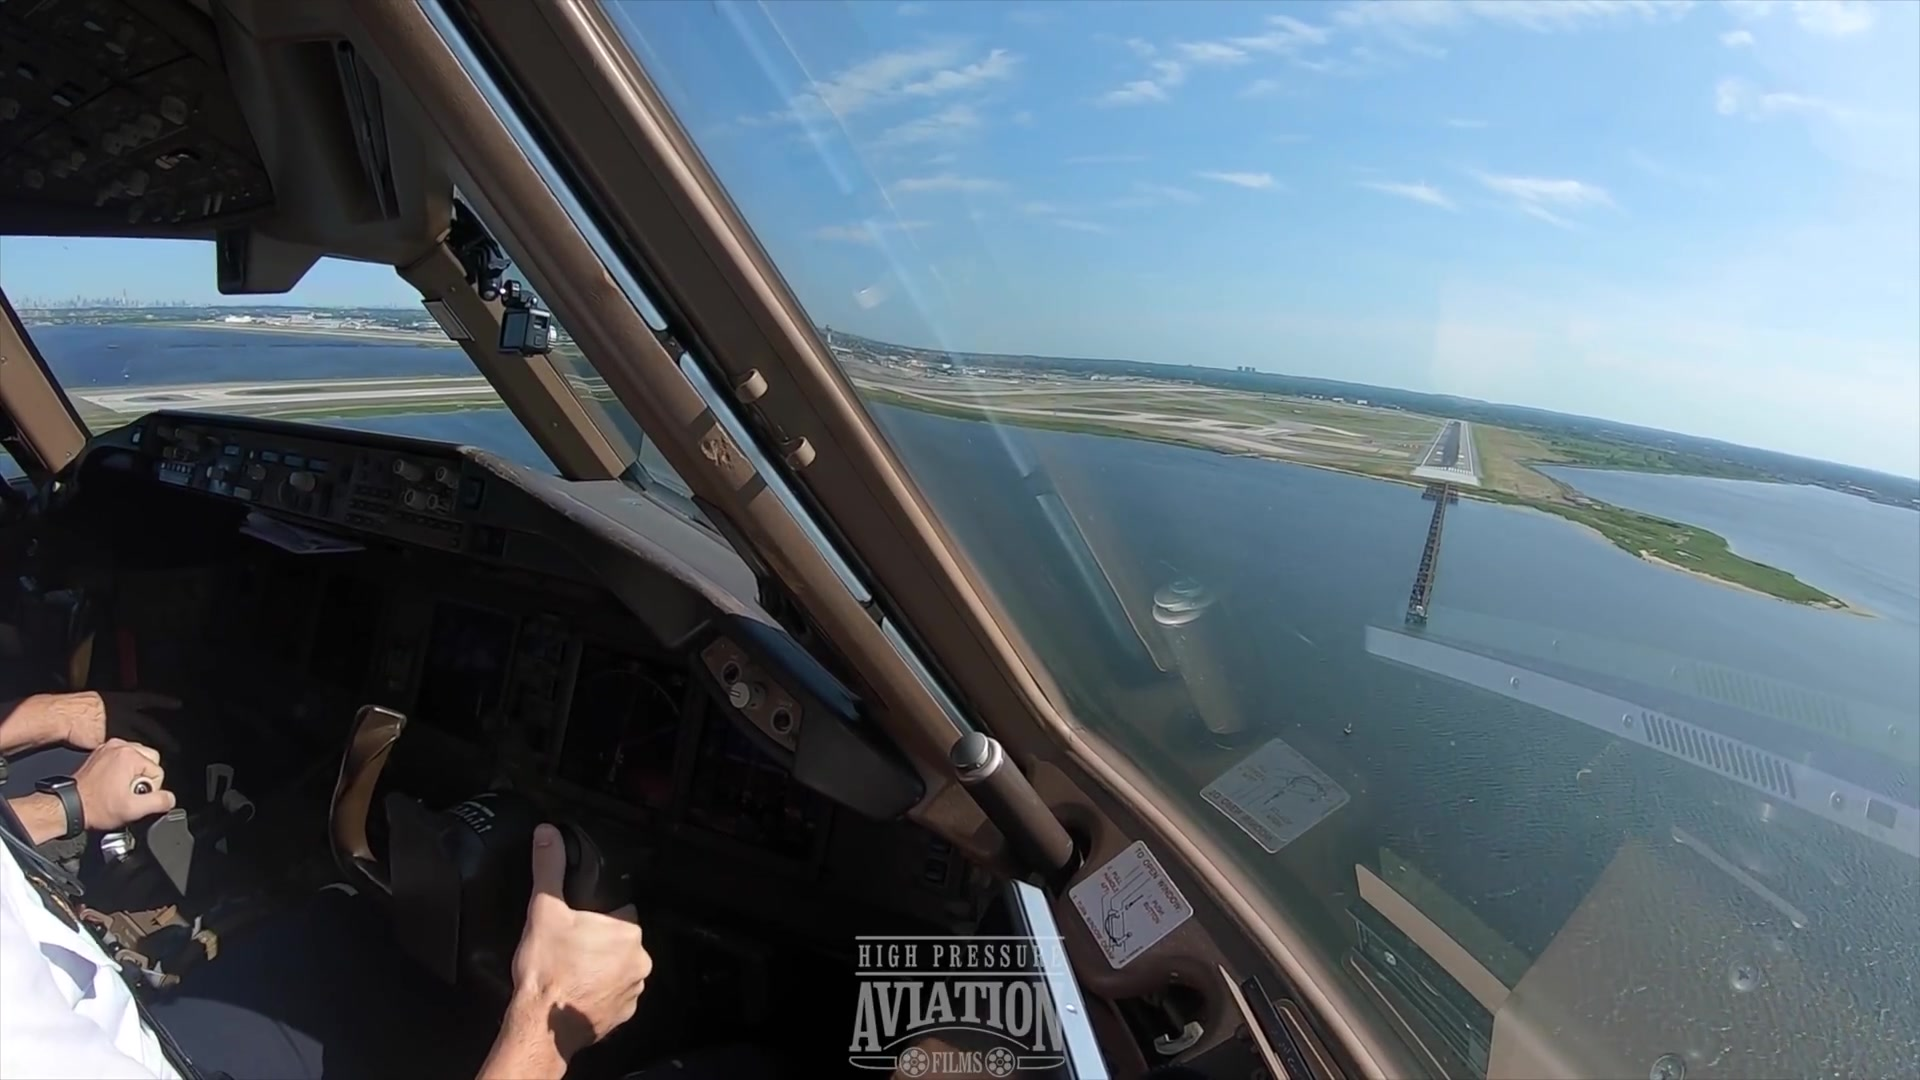runway: (1414, 418, 1476, 481)
